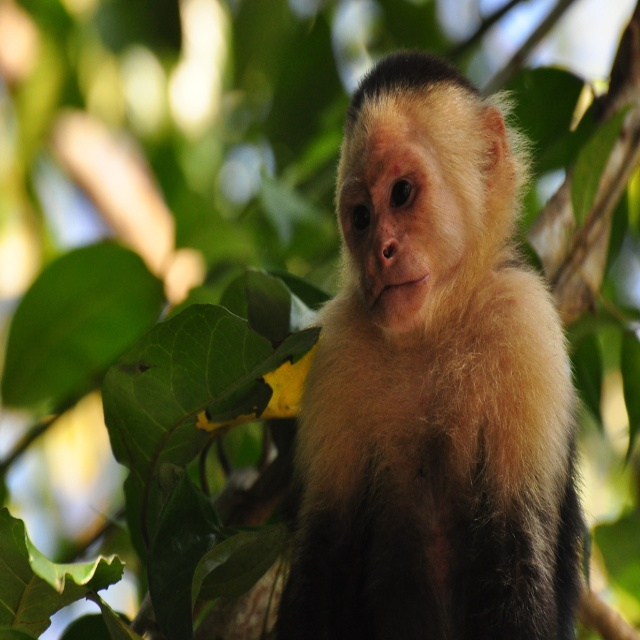Monkey: (269, 43, 586, 635)
